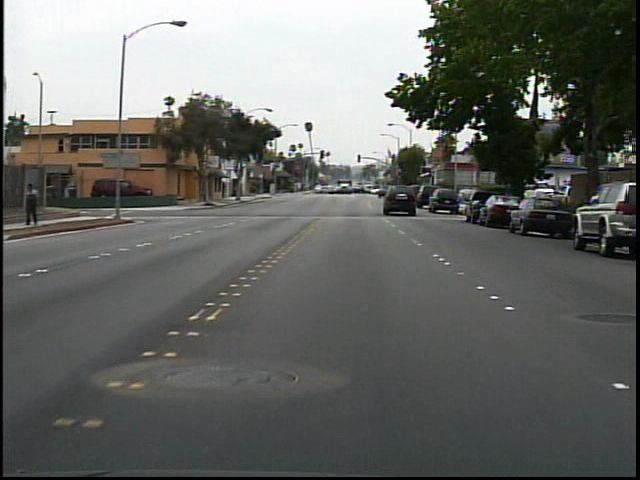person: (23, 180, 48, 231)
